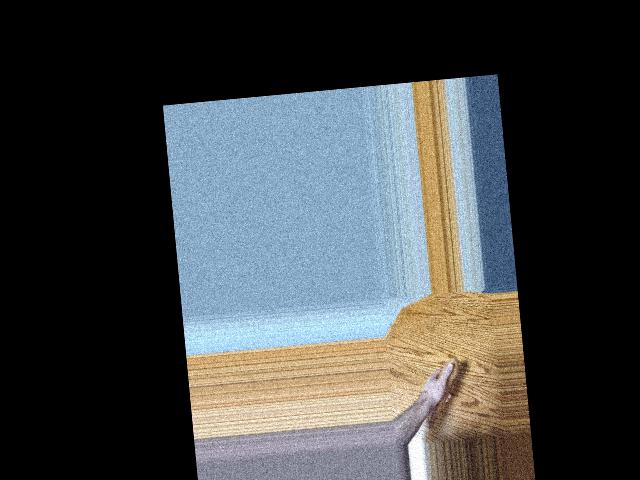sweet_potato: (418, 360, 463, 431)
